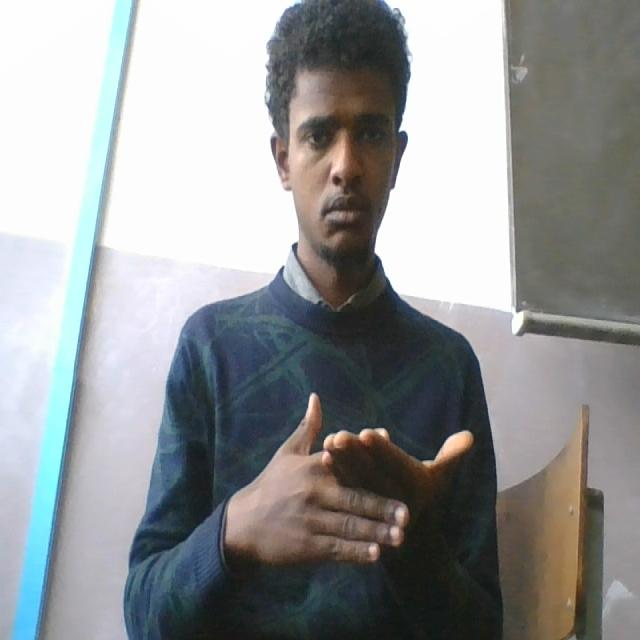sga: (231, 386, 476, 564)
